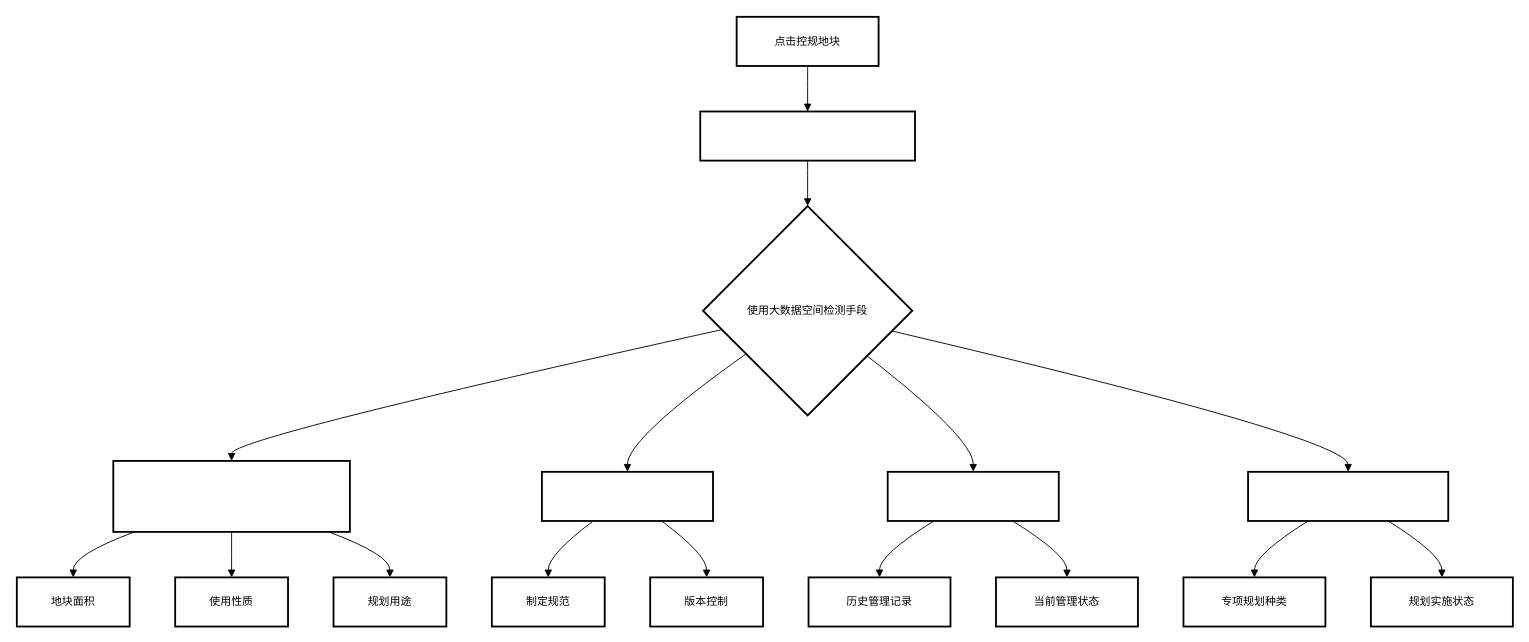
Some shapes in this 1529 by 642 pixel diagram are drawn without their labels. Each missing label, with the centre of its shape:
系统展示地块的基本信息: the point at 807,135
综合展示专项规划情况: the point at 1348,495
综合展示地块涉及的基本信息: the point at 231,496
综合展示管理情况: the point at 972,495
综合展示管理要求: the point at 627,495
